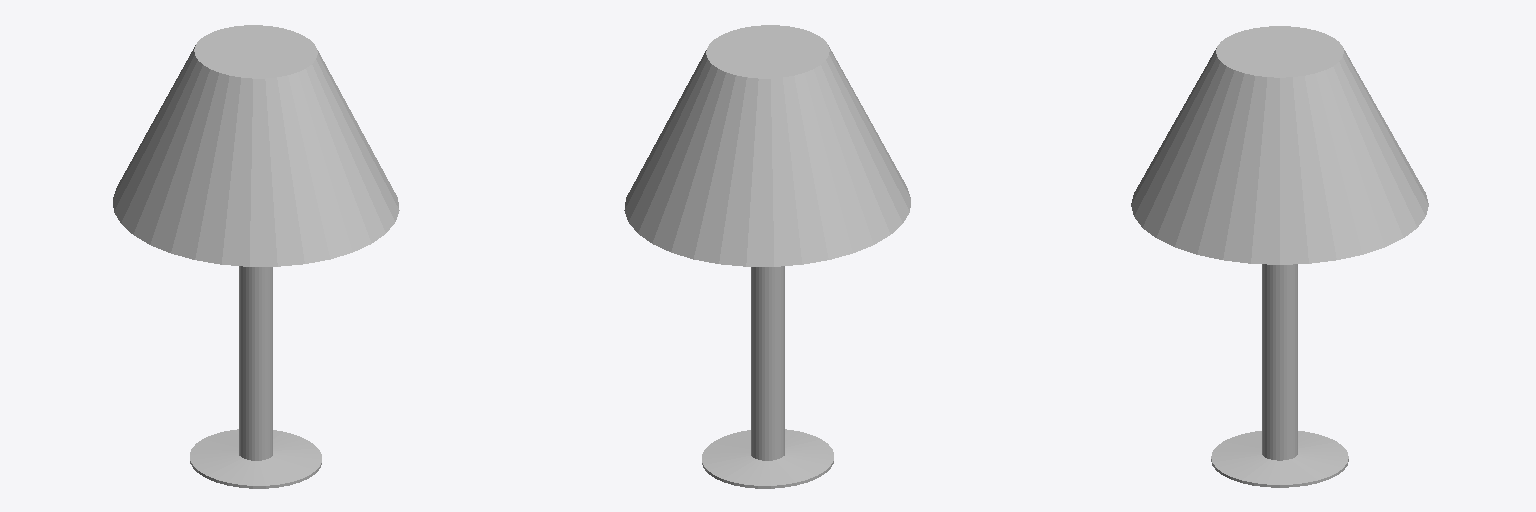
Rendered from Lamp_Desk.obj.
The picture shows the model from 3 angles: view 1: azimuth 30°, elevation 25°; view 2: azimuth 150°, elevation 25°; view 3: azimuth 270°, elevation 25°; orthographic projection.
Parts seen in each view (by area): view 1: Cylinder; view 2: Cylinder; view 3: Cylinder.
Part boxes in pixels (x1,y1,x2,y2): Cylinder: (113, 25, 399, 488); Cylinder: (624, 25, 910, 488); Cylinder: (1131, 26, 1428, 487).
Size of the model in its own units: 1.07 by 1.69 by 1.12.